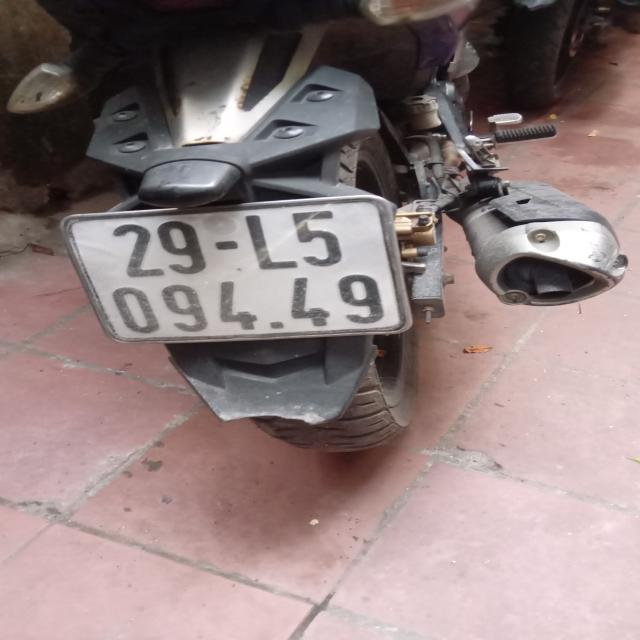License: (59, 194, 413, 344)
